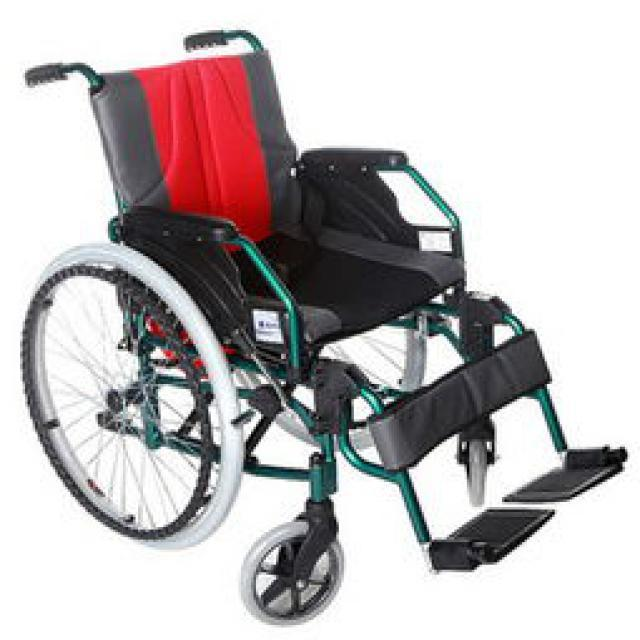wheelchairs: (14, 28, 624, 621)
